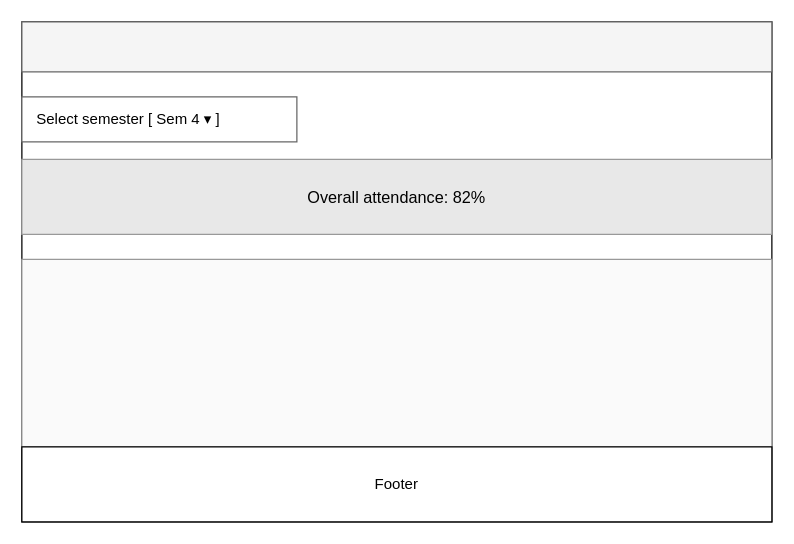
The diagram is 794 pixels wide and 544 high, and some of its shapes have lost their labels. The box of each missing label's shape, as (x1, y1, x2, y2) in pixels:
Nav bar: [Logo] Home Dashboard Events Profile Logout: (21, 21, 772, 72)
Subject-wise table Data Structures 88% Web Development 74% DBMS 80%: (21, 258, 772, 447)
